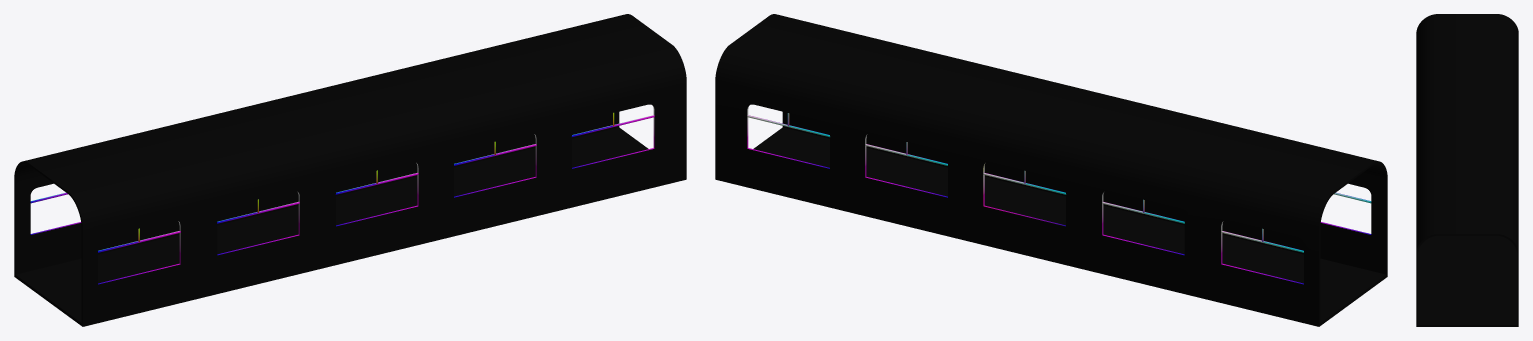
Rendered from TrenVentanas.fbx.
The picture shows the model from 3 angles, left to right: view 1: azimuth 30°, elevation 25°; view 2: azimuth 150°, elevation 25°; view 3: azimuth 270°, elevation 25°; orthographic projection. The views are drawn at different scales.
Visible parts, largest first — view 1: VagonVentanasLau004; view 2: VagonVentanasLau004; view 3: VagonVentanasLau004.
Boxes of the visible parts, box(x1,y1,x2,y2) form: VagonVentanasLau004: box(14, 14, 686, 326); VagonVentanasLau004: box(715, 14, 1387, 326); VagonVentanasLau004: box(1416, 14, 1518, 326).
Size of the model in its own units: 2034 by 400 by 401.
